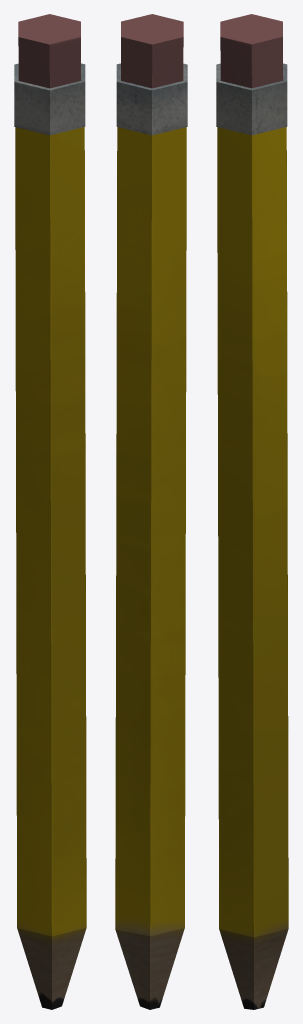
The model's file is pencil.fbx.
3 renders of one model, left to right at view 1: azimuth 30°, elevation 25°; view 2: azimuth 150°, elevation 25°; view 3: azimuth 330°, elevation 25°, orthographic.
Visible parts, largest first — view 1: Pencil_Holder2; view 2: Pencil_Holder2; view 3: Pencil_Holder2.
Part boxes in pixels (x1,y1,x2,y2): Pencil_Holder2: [14, 14, 86, 1009]; Pencil_Holder2: [115, 14, 187, 1009]; Pencil_Holder2: [216, 14, 288, 1009].
Size of the model in its own units: 0.0145 by 0.1879 by 0.0124.
